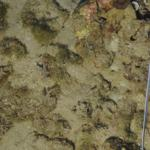dead: (21, 17, 130, 133)
